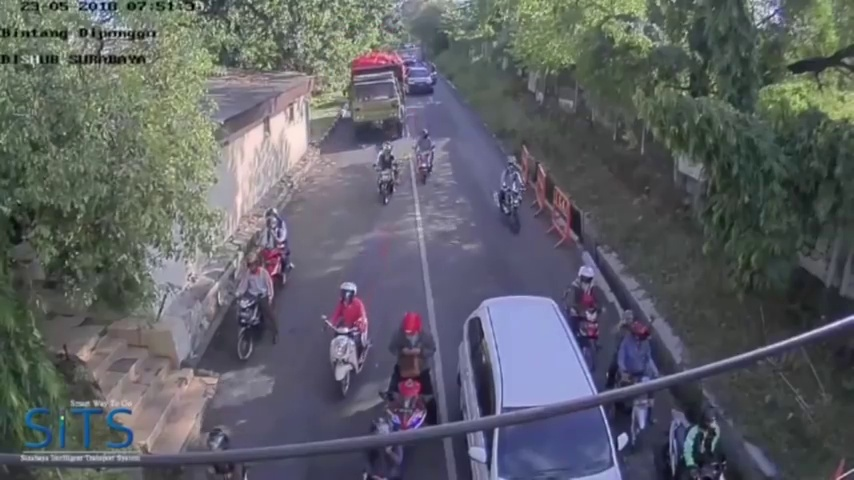car: (346, 50, 407, 138), (403, 61, 434, 98)
motorbike: (609, 311, 657, 450), (223, 254, 280, 363), (388, 309, 430, 451), (321, 284, 369, 397), (564, 259, 599, 370), (491, 157, 525, 235), (262, 210, 294, 289), (375, 143, 398, 202), (415, 129, 434, 188)
